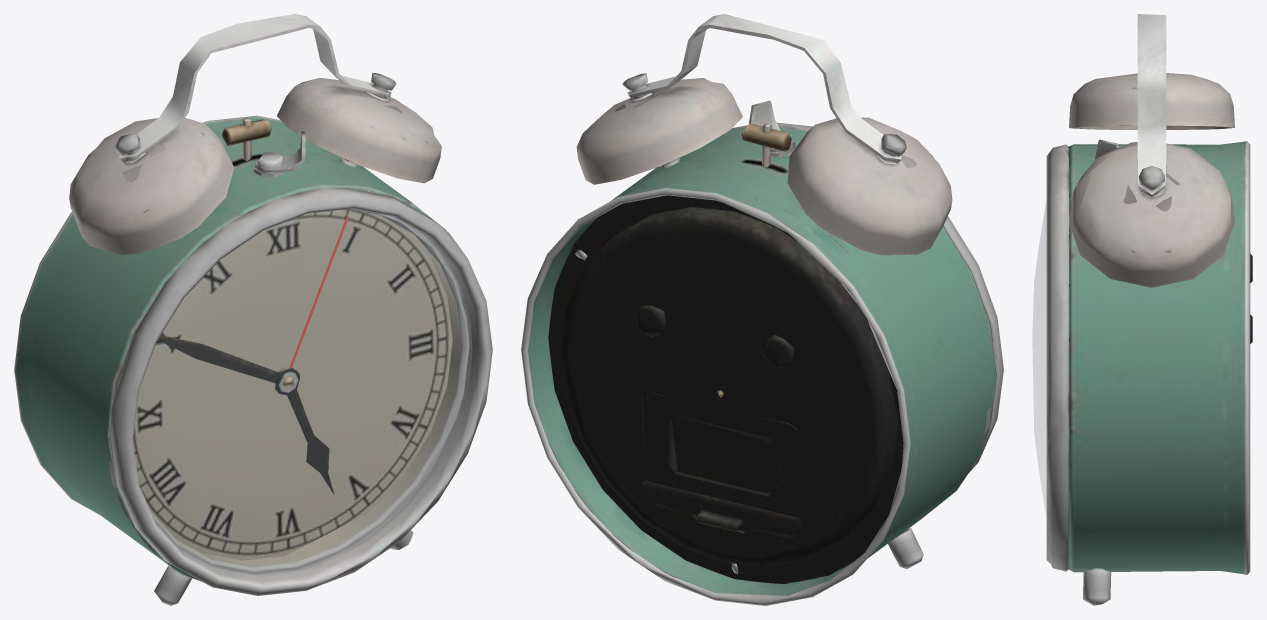
The model's file is alarm_clock_01.glb.
3 views of the same model, side by side, from view 1: azimuth 30°, elevation 25°; view 2: azimuth 150°, elevation 25°; view 3: azimuth 270°, elevation 25° (orthographic). The views are drawn at different scales.
Visible parts, largest first — view 1: alarm_clock_01, alarm_clock_01_Glass; view 2: alarm_clock_01; view 3: alarm_clock_01, alarm_clock_01_Glass.
Boxes of the visible parts, x1,y1,x2,y2 form: alarm_clock_01: (14, 14, 492, 605); alarm_clock_01_Glass: (133, 209, 471, 575); alarm_clock_01: (521, 14, 1003, 605); alarm_clock_01: (1046, 14, 1252, 605); alarm_clock_01_Glass: (1032, 202, 1047, 514).
Size of the model in its own units: 0.1317 by 0.1741 by 0.0666.
Materials: 2 (1 with a texture image).
